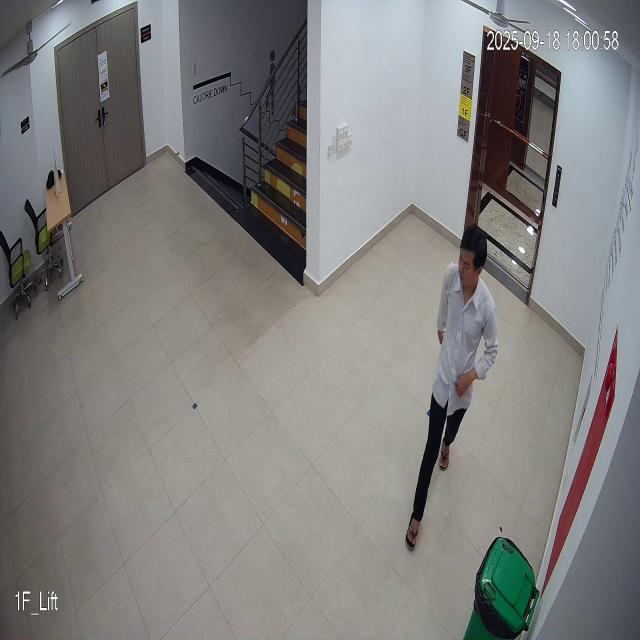face: (456, 222, 489, 292)
